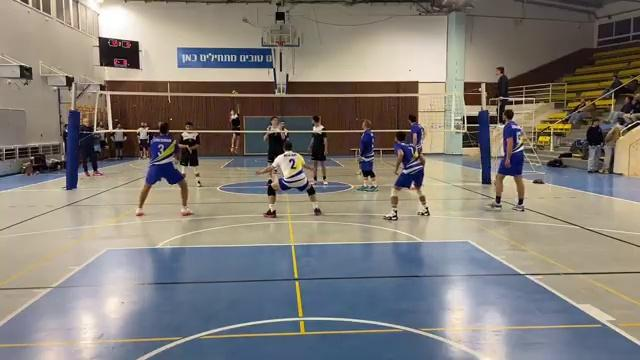ball: (229, 91, 243, 100)
